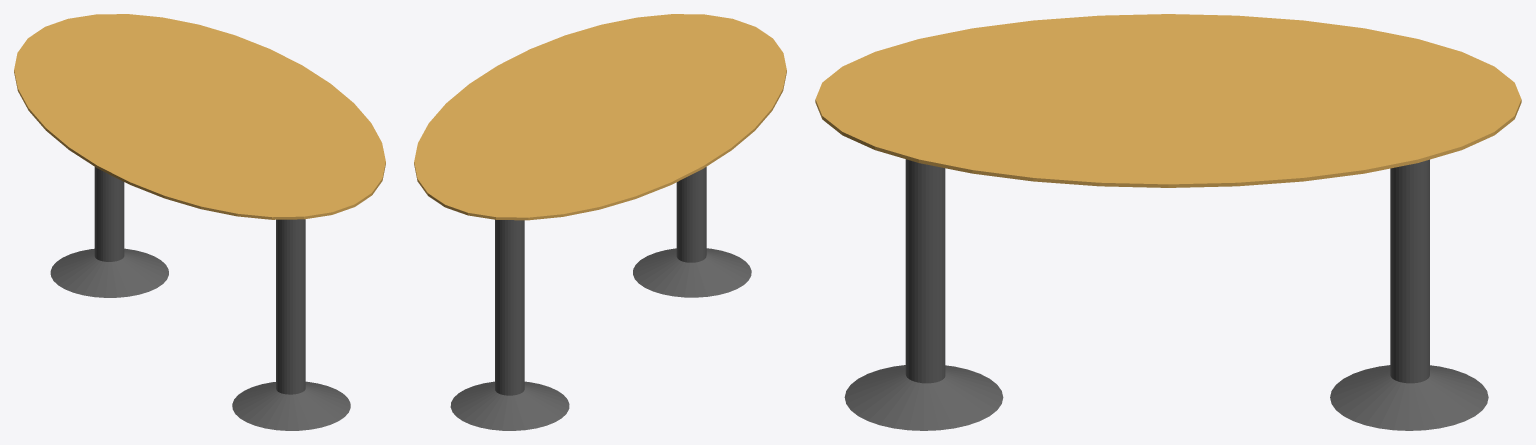
Rendered from Korridorbord.fbx.
The picture shows the model from 3 angles, left to right: view 1: azimuth 30°, elevation 25°; view 2: azimuth 150°, elevation 25°; view 3: azimuth 270°, elevation 25°; orthographic projection. The views are drawn at different scales.
Visible parts, largest first — view 1: Cylinder, Cylinder.001, Cone, Cone.001, Cylinder.002; view 2: Cylinder, Cylinder.002, Cone.001, Cone, Cylinder.001; view 3: Cylinder, Cylinder.001, Cylinder.002, Cone.001, Cone.
Boxes of the visible parts, left/top/right/bottom form: Cylinder: left=14, top=14, right=385, bottom=219; Cylinder.001: left=276, top=219, right=305, bottom=394; Cone: left=232, top=381, right=350, bottom=430; Cone.001: left=50, top=248, right=168, bottom=297; Cylinder.002: left=94, top=167, right=124, bottom=261; Cylinder: left=414, top=14, right=786, bottom=220; Cylinder.002: left=495, top=219, right=524, bottom=395; Cone.001: left=450, top=381, right=569, bottom=430; Cone: left=633, top=248, right=751, bottom=297; Cylinder.001: left=676, top=167, right=706, bottom=262; Cylinder: left=815, top=14, right=1521, bottom=187; Cylinder.001: left=905, top=159, right=945, bottom=383; Cylinder.002: left=1390, top=159, right=1429, bottom=383; Cone.001: left=1330, top=365, right=1488, bottom=430; Cone: left=844, top=365, right=1003, bottom=430.
Bounding box in the file's own units: 610 × 498 × 1068.
